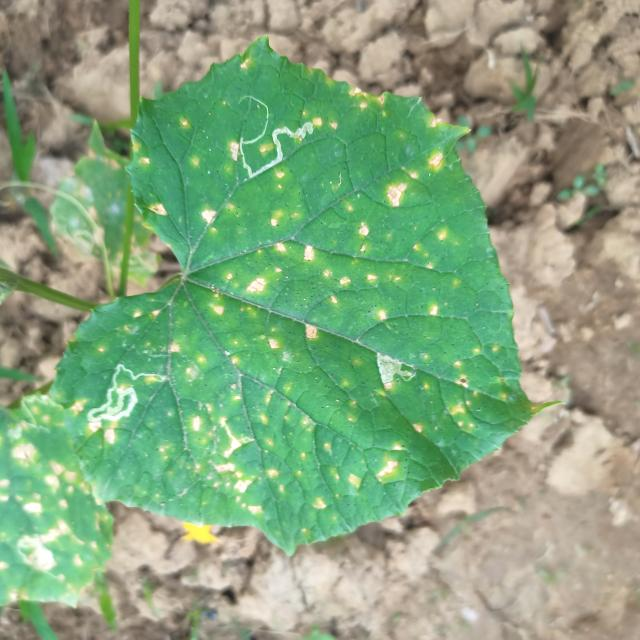disease_cucumber: (103, 100, 488, 518), (0, 442, 102, 596)
